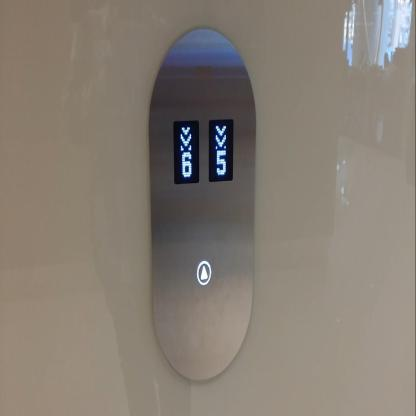led: (172, 118, 200, 186), (207, 115, 234, 184)
up: (195, 257, 212, 288)
